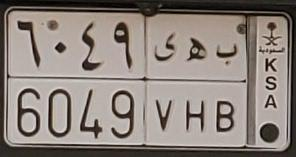0: (47, 40, 73, 138)
4: (79, 22, 104, 140)
6: (16, 19, 41, 137)
9: (111, 21, 135, 140)
B: (215, 43, 240, 134)
H: (184, 36, 206, 133)
V: (154, 32, 176, 133)
